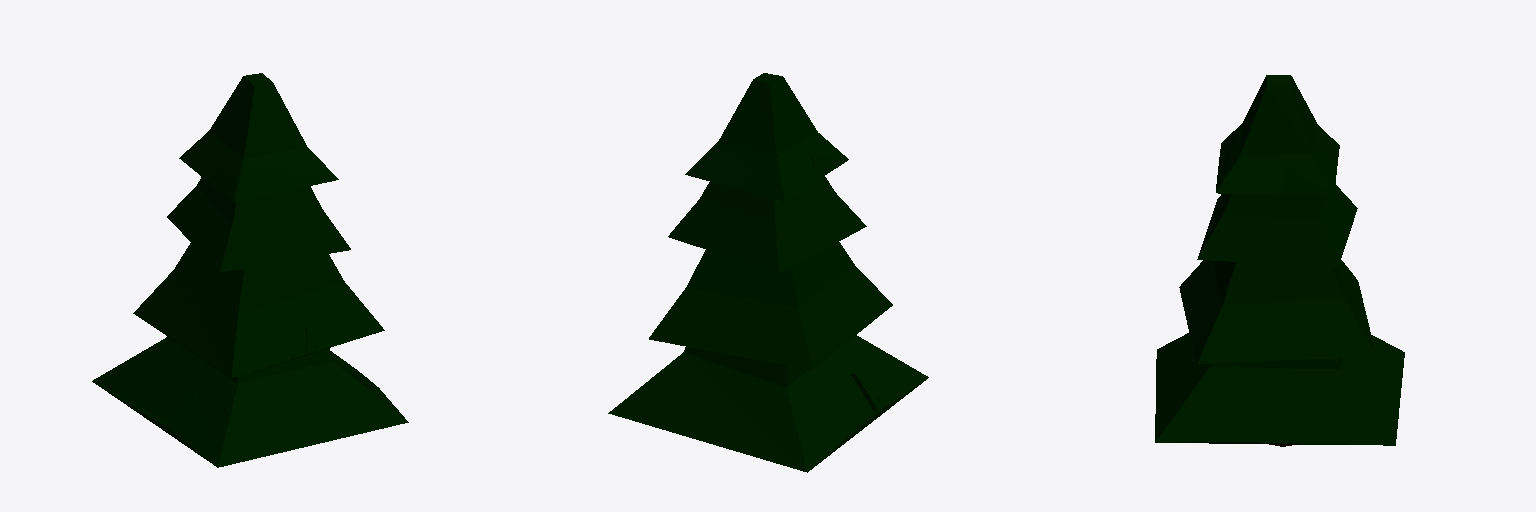
Rendered from Tree3.obj.
The picture shows the model from 3 angles: view 1: azimuth 30°, elevation 25°; view 2: azimuth 150°, elevation 25°; view 3: azimuth 270°, elevation 25°; orthographic projection.
Parts seen in each view (by area): view 1: Cube.005; view 2: Cube.005; view 3: Cube.005.
Part boxes in pixels (bbox=[...]): Cube.005: bbox=[92, 73, 408, 467]; Cube.005: bbox=[608, 73, 928, 472]; Cube.005: bbox=[1155, 75, 1404, 446].
Bounding box in the file's own units: 4.66 × 7.76 × 4.94.